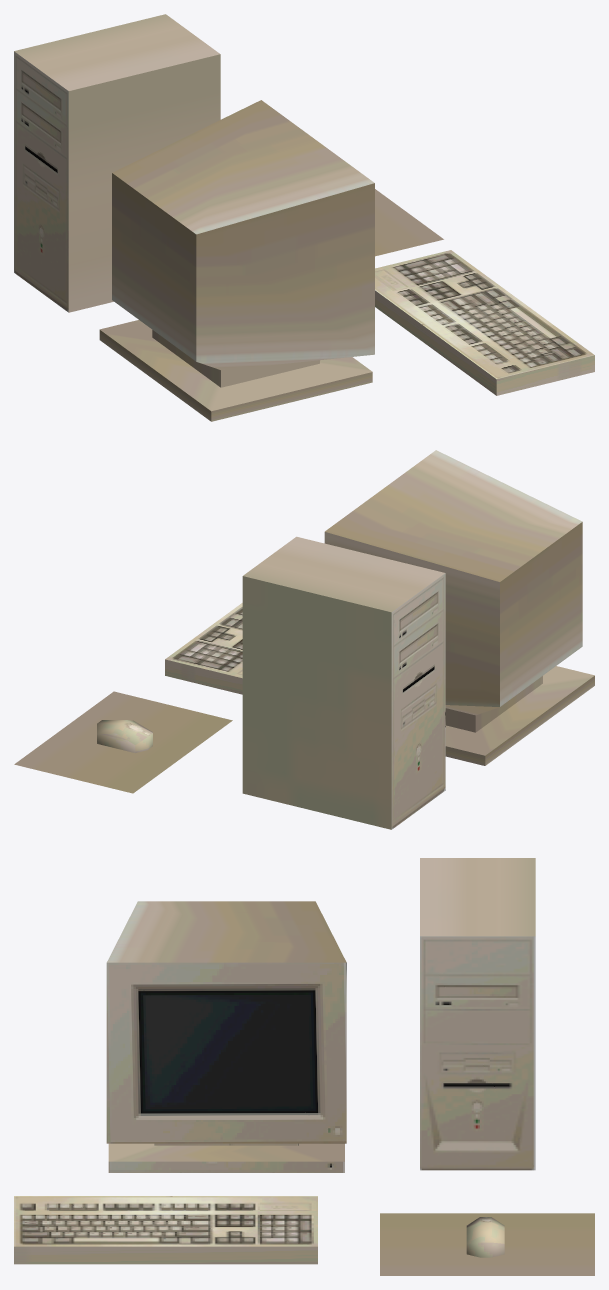
The model's file is old_computer.glb.
3 views of the same model, one above another, from view 1: azimuth 30°, elevation 25°; view 2: azimuth 150°, elevation 25°; view 3: azimuth 270°, elevation 25° (orthographic). The views are drawn at different scales.
Parts seen in each view (by area): view 1: computer; view 2: computer; view 3: computer.
Boxes of the visible parts, x1,y1,x2,y2 form: computer: (14, 14, 594, 421); computer: (14, 450, 594, 829); computer: (14, 858, 594, 1275).
Bounding box in the file's own units: 0.6637 × 0.3874 × 0.8716.
Materials: 1 (1 with a texture image).
